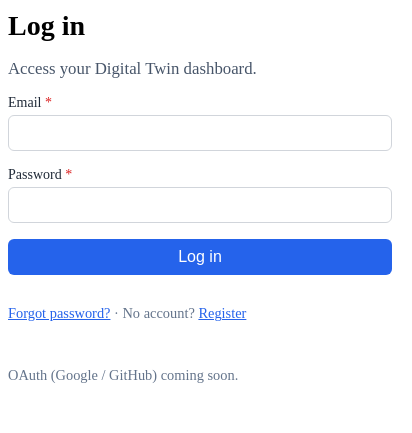
Test case: LoginPage › surfaces API errors
Type "owner@example.com" into the field labelled "Email *" at (200, 133), box [8, 115, 392, 151]
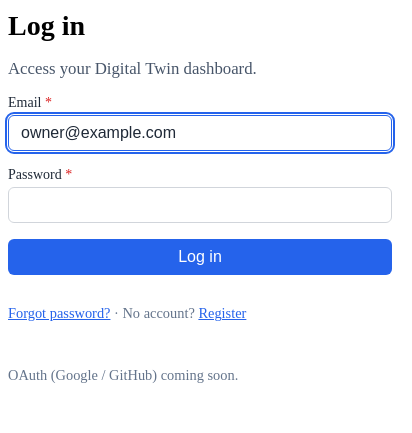
Type "SecurePass1!" into the password field labelled "Password *" at (200, 205), box [8, 187, 392, 223]
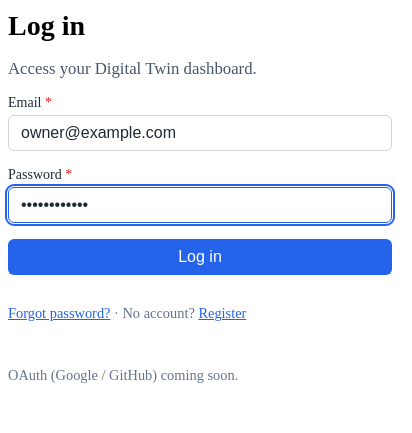
Click the button "Log in" at (200, 257), box [8, 239, 392, 275]
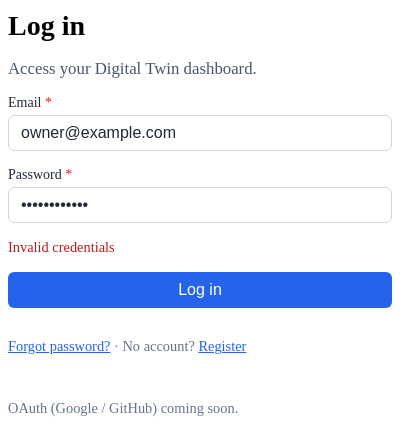
Expected: the text "Invalid credentials" is shown, [8, 239, 115, 255]
